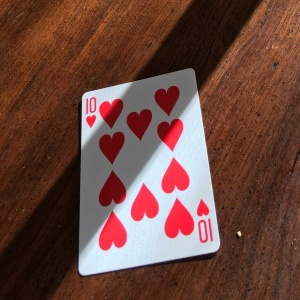card: (78, 69, 221, 278)
